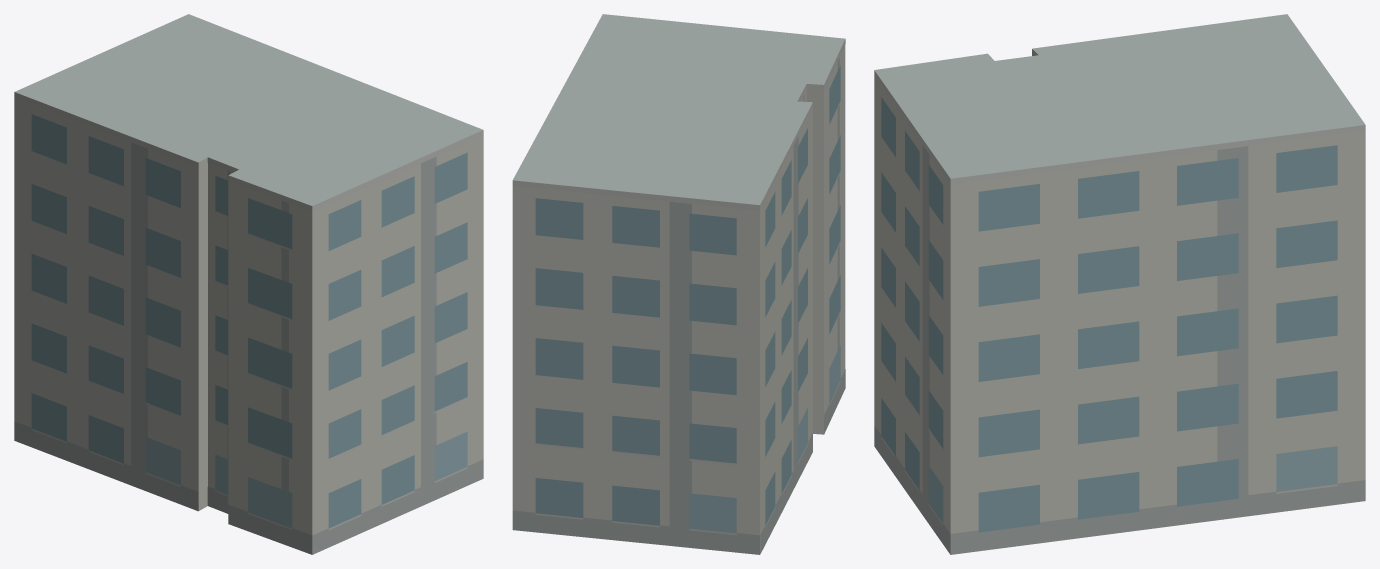
Rendered from survey-upis-32837434.glb.
3 renders of one model, left to right at view 1: azimuth 30°, elevation 25°; view 2: azimuth 150°, elevation 25°; view 3: azimuth 270°, elevation 25°, orthographic. The views are drawn at different scales.
Parts seen in each view (by area): view 1: survey-upis-32837434.tmp; view 2: survey-upis-32837434.tmp; view 3: survey-upis-32837434.tmp.
Boxes of the visible parts, bbox=[...] form: survey-upis-32837434.tmp: bbox=[14, 14, 483, 554]; survey-upis-32837434.tmp: bbox=[512, 14, 845, 554]; survey-upis-32837434.tmp: bbox=[874, 14, 1365, 554].
Size of the model in its own units: 14.33 by 15.25 by 18.07.
